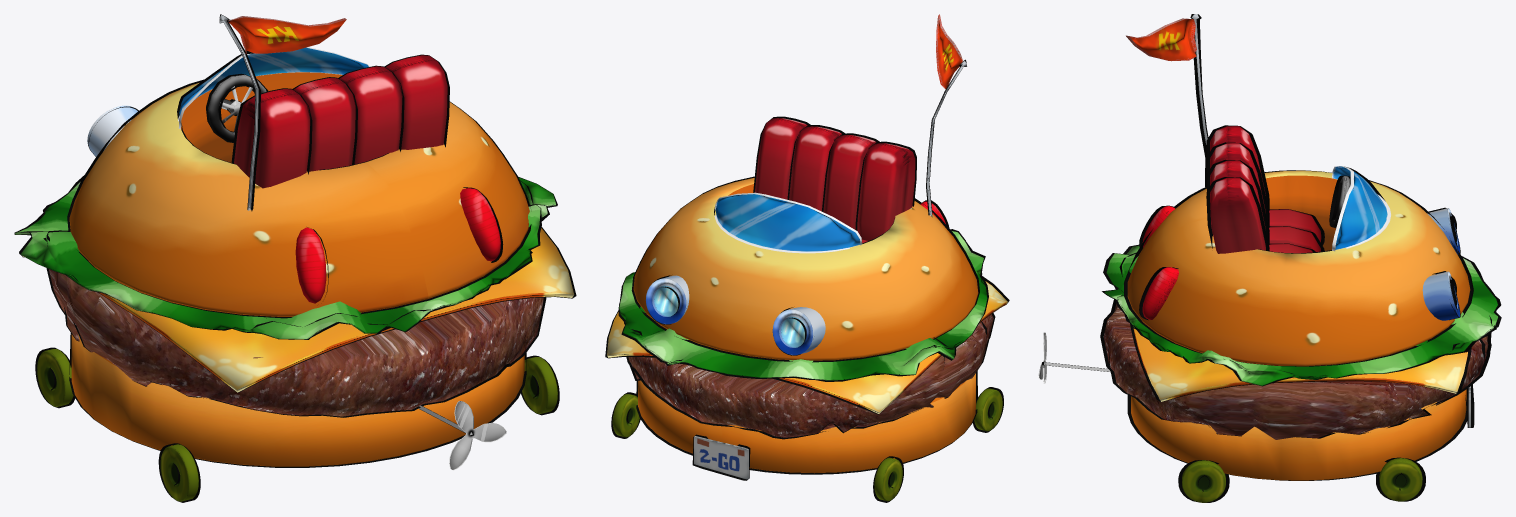
File: patty_wagon.glb
3 views of the same model, side by side, from view 1: azimuth 30°, elevation 25°; view 2: azimuth 150°, elevation 25°; view 3: azimuth 270°, elevation 25° (orthographic). The views are drawn at different scales.
Visible parts, largest first — view 1: Patty Wagon.001_0; view 2: Patty Wagon.001_0; view 3: Patty Wagon.001_0.
Part boxes in pixels (left/top/right/bottom): Patty Wagon.001_0: left=14, top=14, right=576, bottom=502; Patty Wagon.001_0: left=605, top=14, right=1009, bottom=502; Patty Wagon.001_0: left=1038, top=14, right=1501, bottom=502.
Bounding box in the file's own units: 2.44 × 2.44 × 2.73.
Materials: 17 (15 with a texture image).
